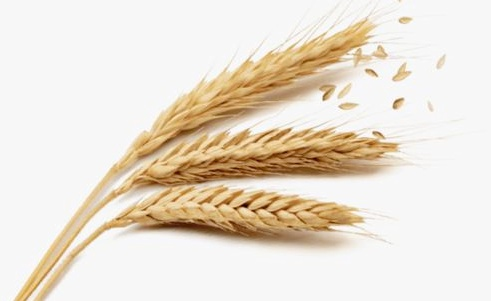wheat: (123, 16, 379, 151), (42, 181, 383, 269), (112, 119, 408, 190)
